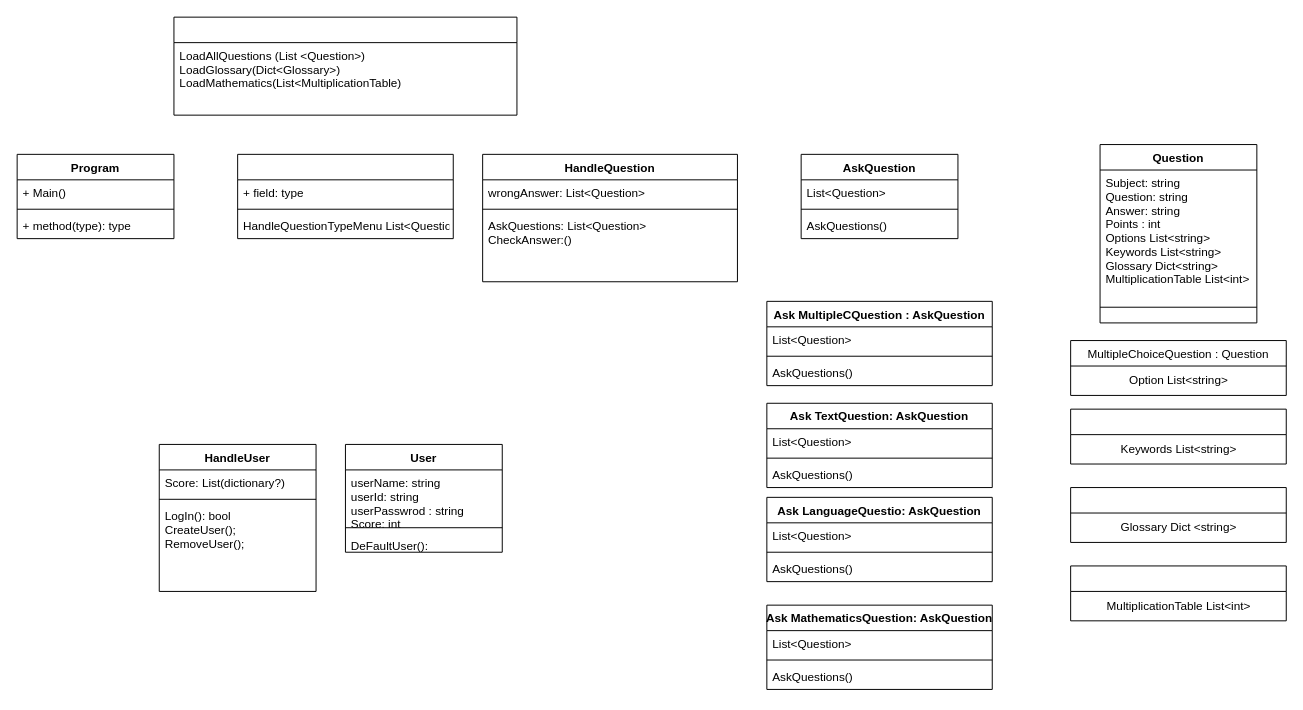
This 1303x710 diagram has some shape labels left out. Here are the shapes that lost their labels. From the top down, the box of each, then its label:
(173, 16, 517, 115): LoadFile
(237, 153, 453, 239): Quiz
(1070, 408, 1286, 464): TextQuestion : Question
(1070, 487, 1286, 542): Language: Question
(1070, 565, 1286, 621): Mathematics: Question
